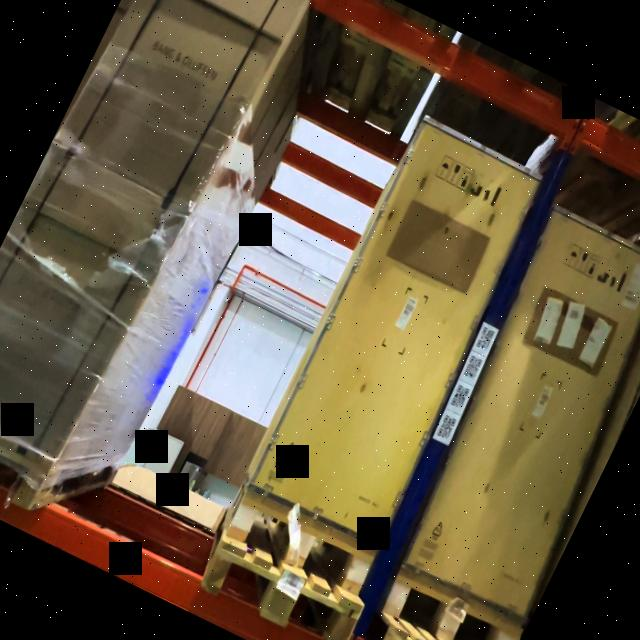box: (243, 114, 542, 550), (403, 207, 640, 621), (52, 0, 304, 209)
